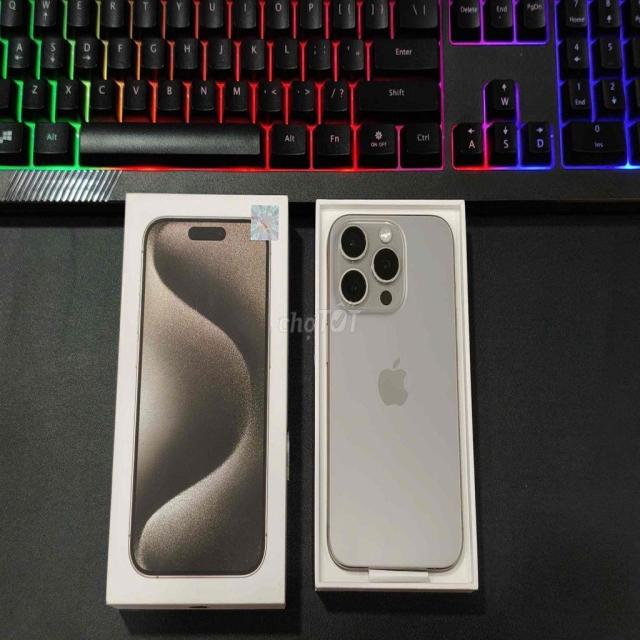gen_15: (321, 204, 471, 597)
